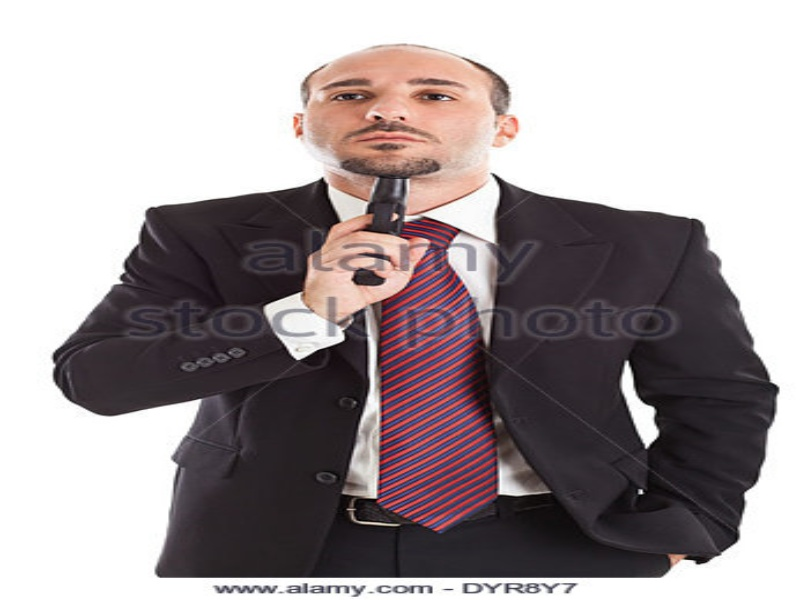gun: (353, 163, 415, 300)
